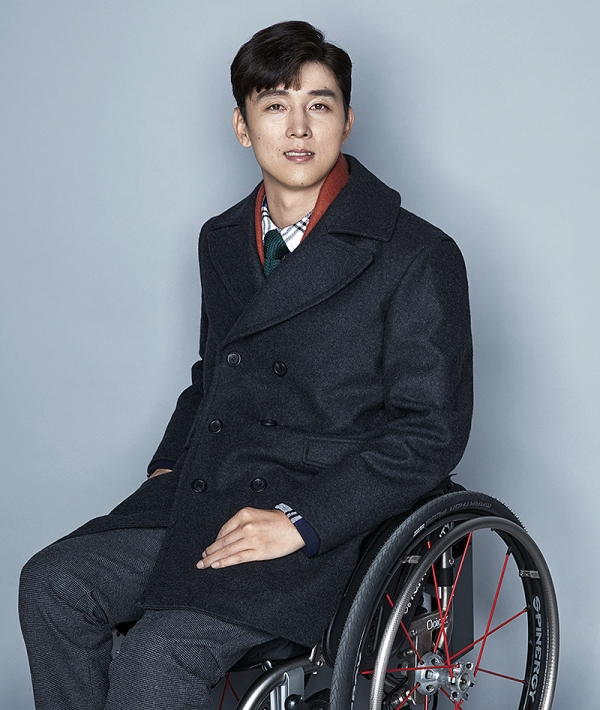wheelchair: (18, 22, 561, 710)
